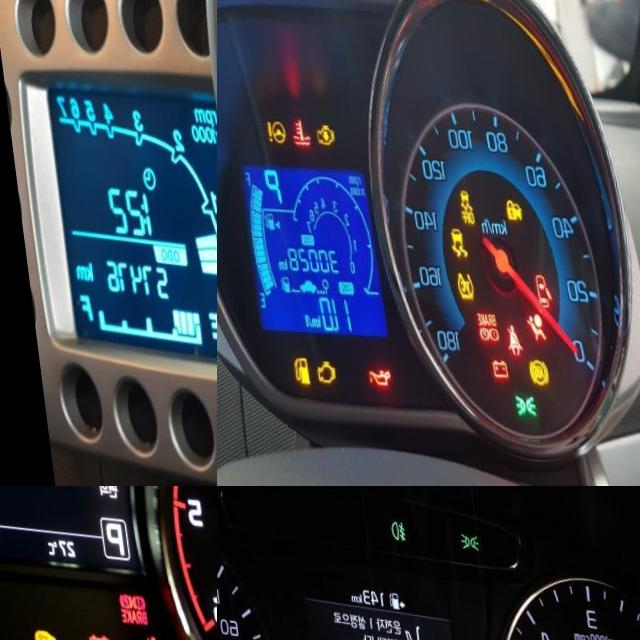Doors: (526, 259, 544, 298)
Engine cooling system: (285, 110, 308, 142)
FrontFogLight: (384, 508, 401, 533)
Low fuel level: (281, 349, 301, 381)
SideLamp: (502, 381, 528, 410), (454, 521, 475, 540)
